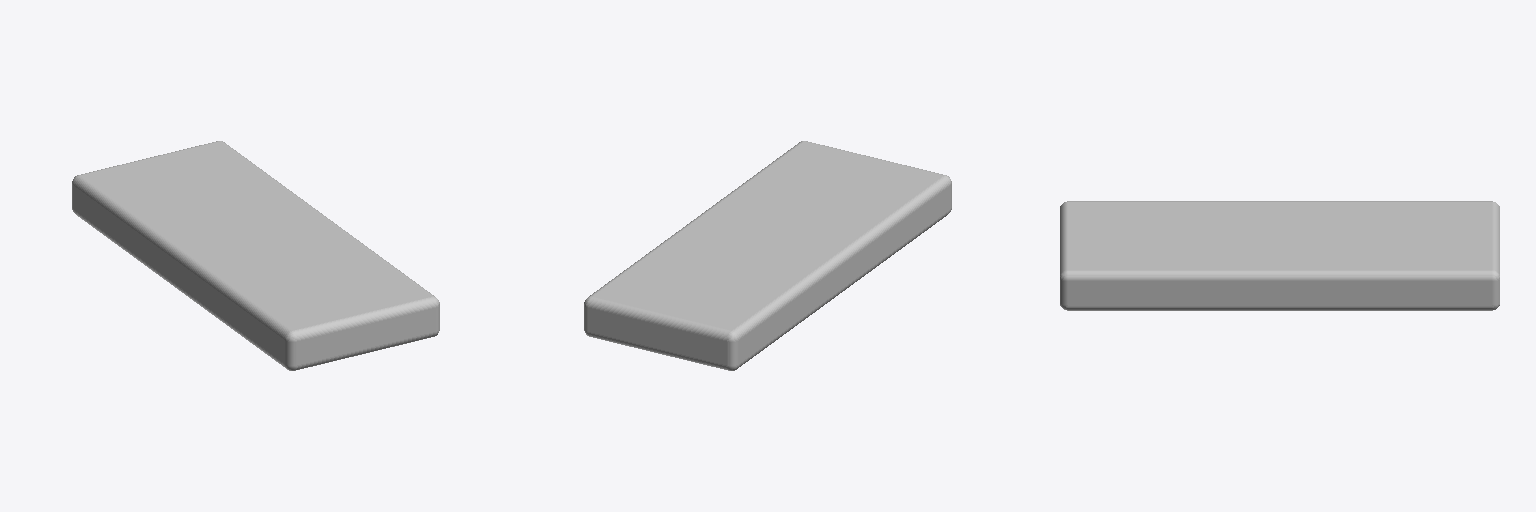
The model's file is MATRESS_2.obj.
The picture shows the model from 3 angles: view 1: azimuth 30°, elevation 25°; view 2: azimuth 150°, elevation 25°; view 3: azimuth 270°, elevation 25°; orthographic projection.
Parts seen in each view (by area): view 1: Cube.002_Cube.017; view 2: Cube.002_Cube.017; view 3: Cube.002_Cube.017.
Part boxes in pixels (bbox=[...]): Cube.002_Cube.017: bbox=[72, 141, 439, 370]; Cube.002_Cube.017: bbox=[584, 141, 951, 370]; Cube.002_Cube.017: bbox=[1060, 201, 1499, 310].
Size of the model in its own units: 0.8141 by 0.2017 by 2.02.